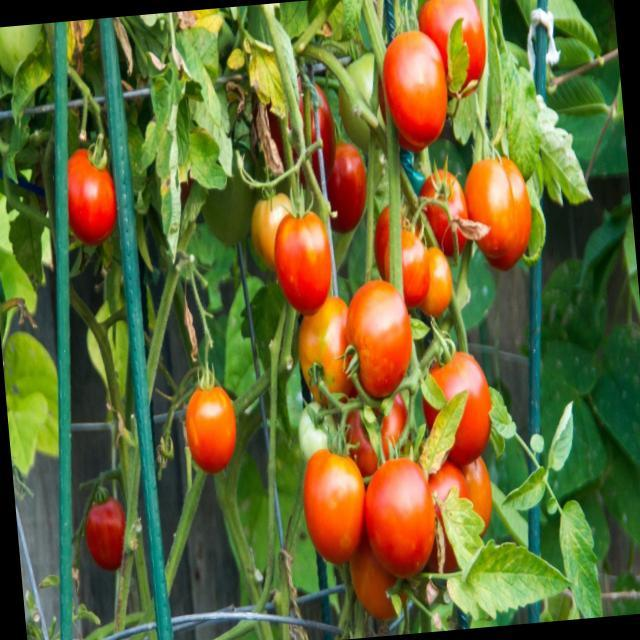TOMATO: (460, 137, 540, 275), (359, 452, 438, 578), (422, 345, 500, 465), (340, 278, 416, 401), (382, 30, 454, 147), (269, 210, 348, 316), (296, 442, 366, 553), (417, 0, 494, 98), (294, 296, 354, 409), (278, 64, 334, 180), (61, 142, 121, 239), (182, 378, 238, 480), (424, 453, 479, 554), (322, 128, 372, 238), (419, 162, 471, 250), (85, 478, 132, 572), (251, 189, 302, 270), (459, 442, 494, 539)
